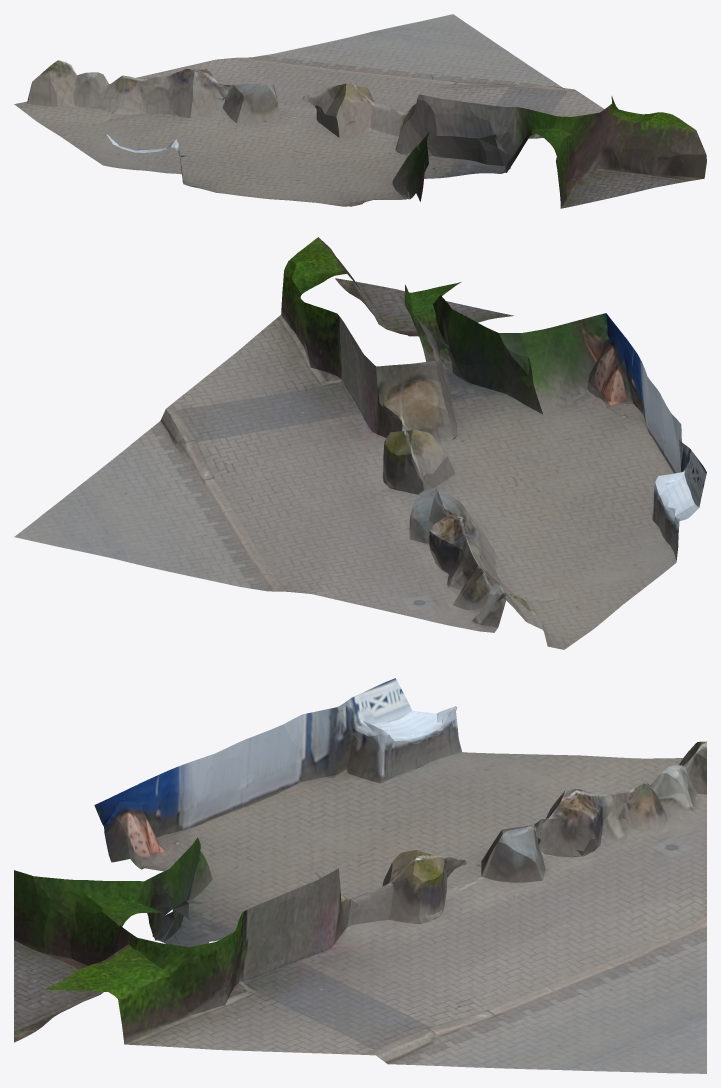
3 renders of one model, top to bottom at view 1: azimuth 30°, elevation 25°; view 2: azimuth 150°, elevation 25°; view 3: azimuth 270°, elevation 25°, orthographic. The views are drawn at different scales.
Size of the model in its own units: 8.36 by 1.37 by 8.36.
Materials: 2 (2 with a texture image).
